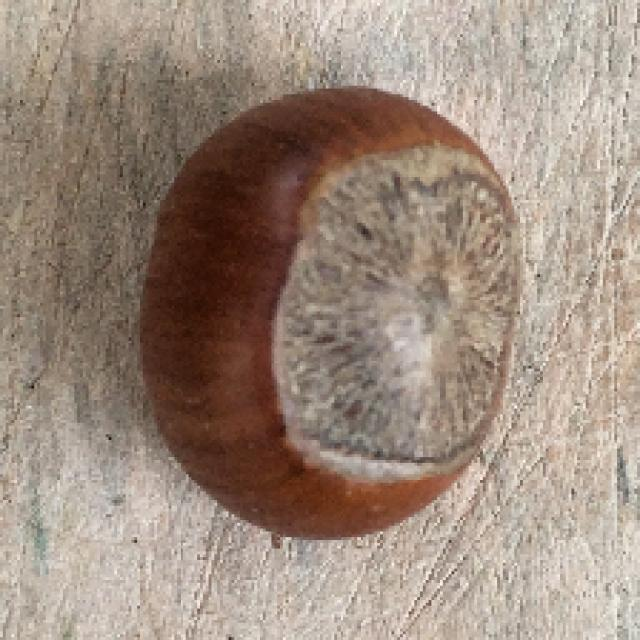damagedHazelnut: (125, 76, 522, 549)
